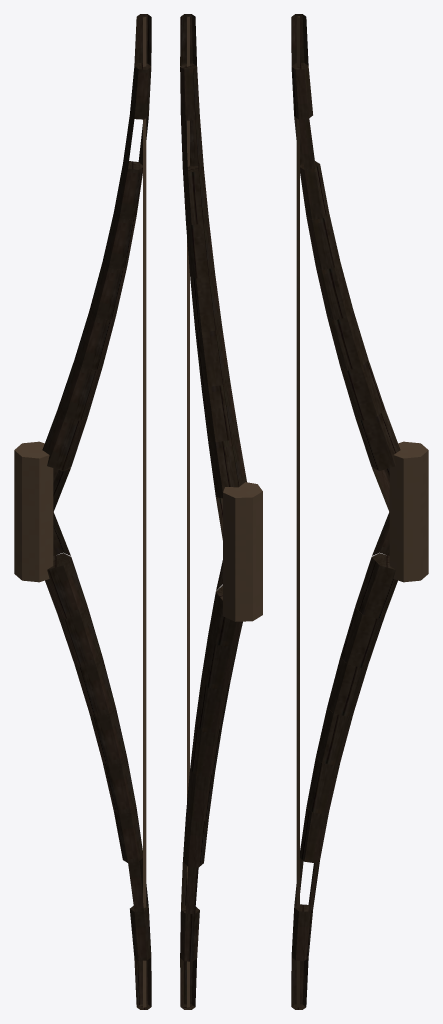
The model's file is wpn_bow_common.glb.
The picture shows the model from 3 angles, left to right: view 1: azimuth 90°, elevation 25°; view 2: azimuth 210°, elevation 25°; view 3: azimuth 270°, elevation 25°; orthographic projection.
Visible parts, largest first — view 1: wpn_bow_common; view 2: wpn_bow_common; view 3: wpn_bow_common.
Part boxes in pixels (x1=…): wpn_bow_common: x1=14, y1=14, x2=151, y2=1009; wpn_bow_common: x1=180, y1=14, x2=262, y2=1009; wpn_bow_common: x1=291, y1=14, x2=428, y2=1009.
Size of the model in its own units: 0.0585 by 1.6 by 0.201.
Materials: 2 (2 with a texture image).
